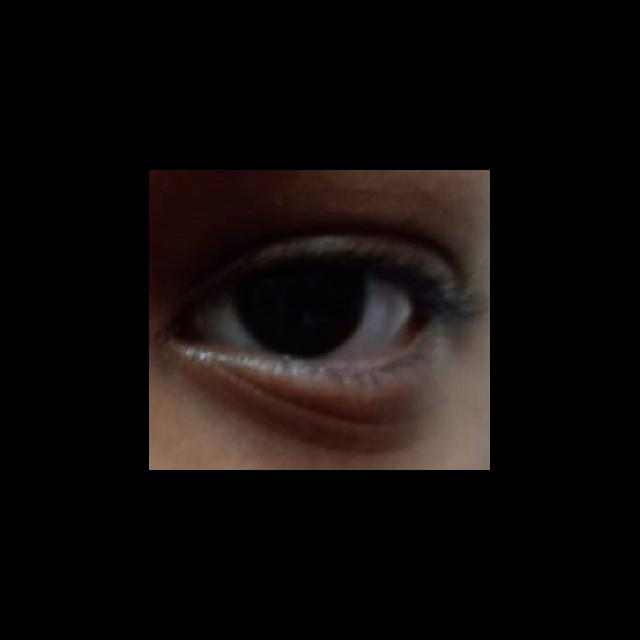eye: (193, 258, 414, 362)
iris: (232, 263, 367, 358)
